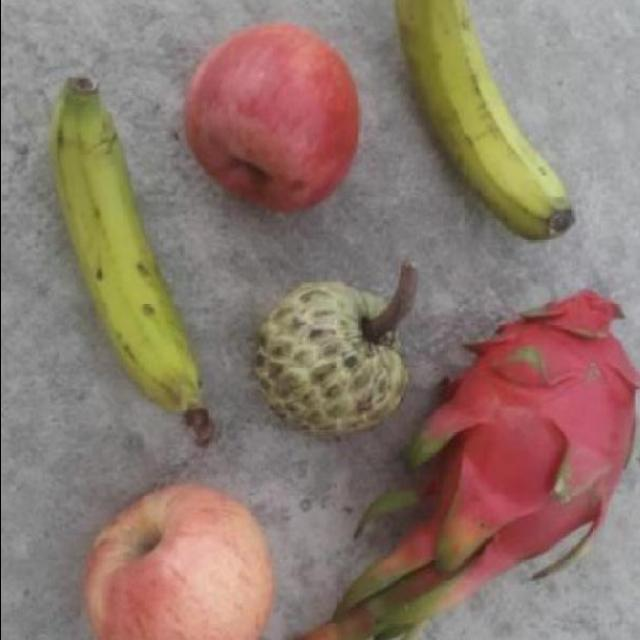apple: (180, 19, 364, 212), (70, 481, 280, 640)
banana: (41, 66, 220, 444), (387, 0, 576, 241)
dragon fruit: (402, 292, 640, 566)
sugar apple: (242, 272, 408, 442)
